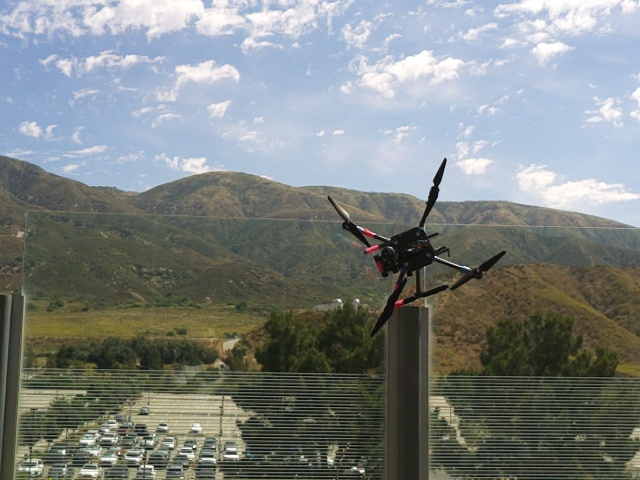quadcopter: (317, 146, 527, 349)
